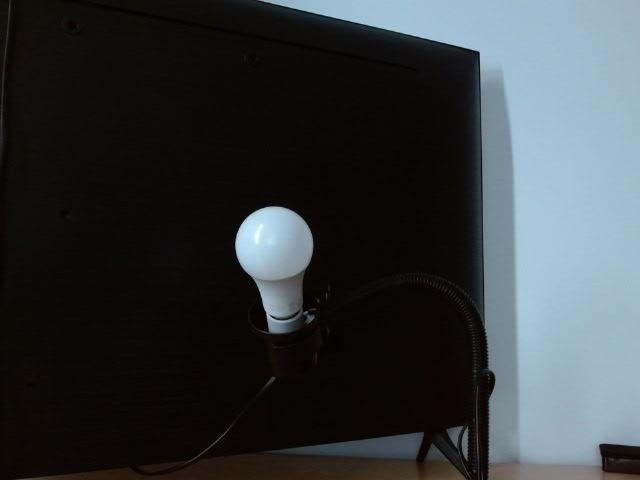Fan: (233, 204, 318, 296)
